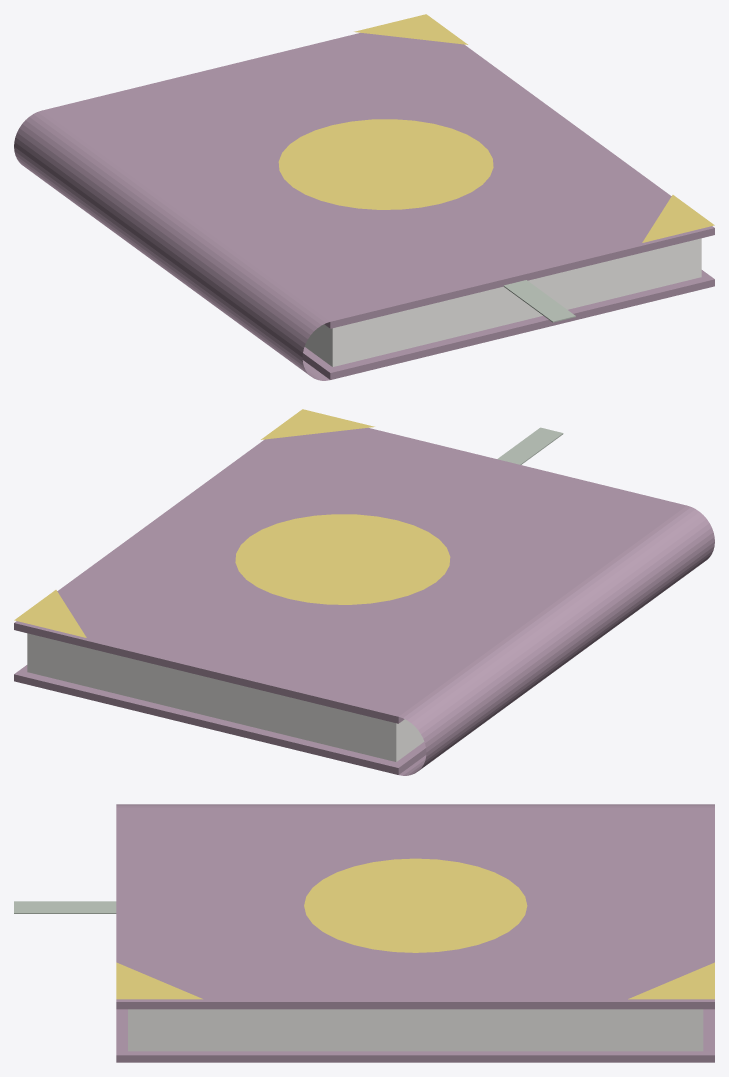
Rendered from heirloom_book.glb.
3 renders of one model, top to bottom at view 1: azimuth 30°, elevation 25°; view 2: azimuth 150°, elevation 25°; view 3: azimuth 270°, elevation 25°, orthographic. The views are drawn at different scales.
Visible parts, largest first — view 1: FrontCover, Spine, TreeOfLifeEmblem, TextBlock, BackCover, CornerGuards, SilkRibbonBookmark; view 2: FrontCover, Spine, TreeOfLifeEmblem, TextBlock, BackCover, CornerGuards, SilkRibbonBookmark; view 3: FrontCover, TextBlock, TreeOfLifeEmblem, BackCover, CornerGuards, Spine, SilkRibbonBookmark.
Boxes of the visible parts, x1,y1,x2,y2 form: FrontCover: [42, 32, 714, 328]; Spine: [14, 110, 329, 380]; TreeOfLifeEmblem: [278, 119, 493, 209]; TextBlock: [304, 238, 701, 366]; BackCover: [302, 270, 714, 379]; CornerGuards: [354, 14, 714, 242]; SilkRibbonBookmark: [503, 280, 575, 322]; FrontCover: [14, 427, 686, 723]; Spine: [399, 505, 714, 775]; TreeOfLifeEmblem: [235, 514, 450, 604]; TextBlock: [27, 633, 424, 761]; BackCover: [14, 665, 426, 774]; CornerGuards: [14, 409, 374, 637]; SilkRibbonBookmark: [497, 427, 563, 464]; FrontCover: [116, 807, 714, 1009]; TextBlock: [128, 1009, 703, 1051]; TreeOfLifeEmblem: [304, 858, 527, 952]; BackCover: [116, 1009, 714, 1062]; CornerGuards: [116, 962, 714, 999]; Spine: [116, 804, 714, 807]; SilkRibbonBookmark: [14, 901, 116, 913].
Size of the model in its own units: 0.2145 by 0.0304 by 0.3045.
